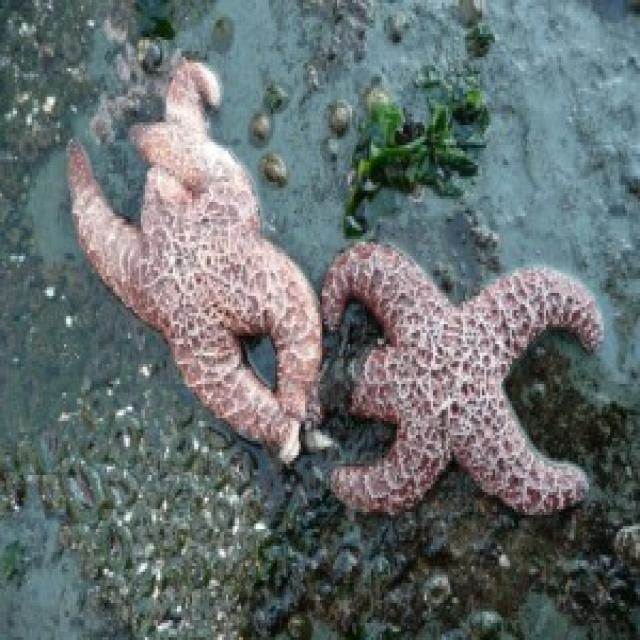Starfish: (59, 47, 325, 464), (325, 244, 608, 525)
